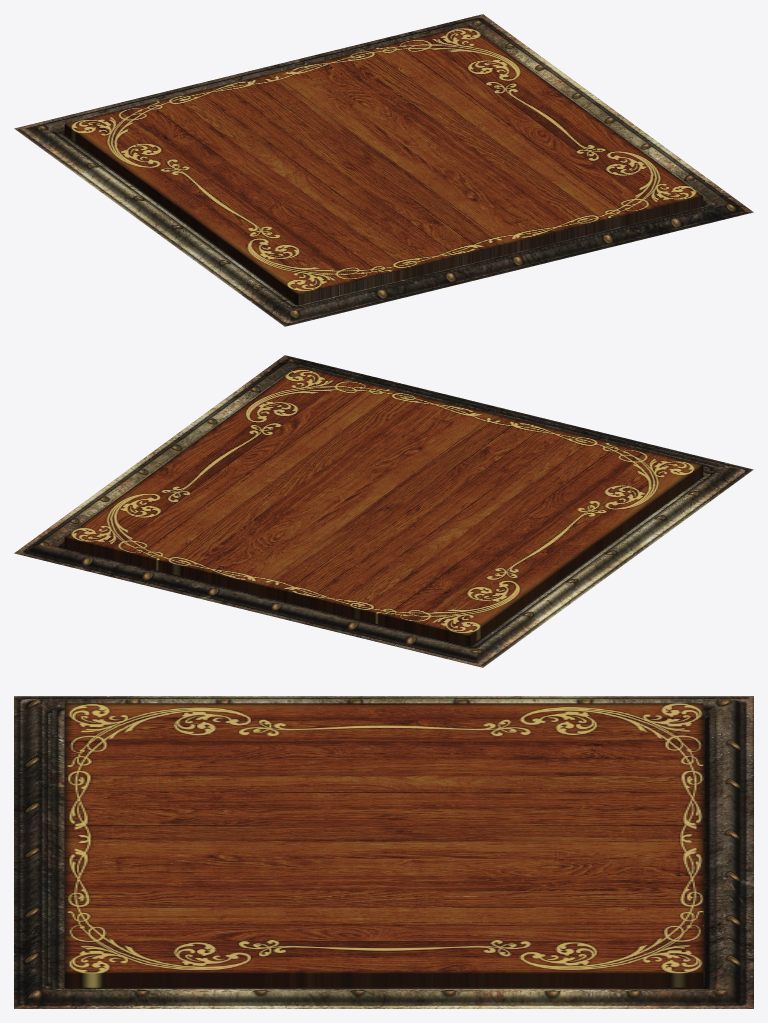
The model's file is Level_02_Wall_Bottom.FBX.
3 renders of one model, top to bottom at view 1: azimuth 30°, elevation 25°; view 2: azimuth 150°, elevation 25°; view 3: azimuth 270°, elevation 25°, orthographic. The views are drawn at different scales.
Visible parts, largest first — view 1: Bottom_Box; view 2: Bottom_Box; view 3: Bottom_Box.
Boxes of the visible parts, x1=… form: Bottom_Box: x1=14, y1=14, x2=753, y2=326; Bottom_Box: x1=14, y1=355, x2=753, y2=667; Bottom_Box: x1=14, y1=696, x2=753, y2=1008.
Bounding box in the file's own units: 100 × 2.1 × 100.
